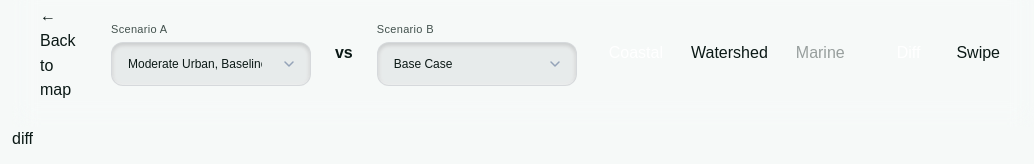
REQ-SC-020: CompareToolbar › mode toggle click writes compareLayoutModeAtom
The width and height of the screenshot is (1034, 164).
Step 1. Click the button "Swipe" → click(978, 54), box 940,33 -> 1016,74
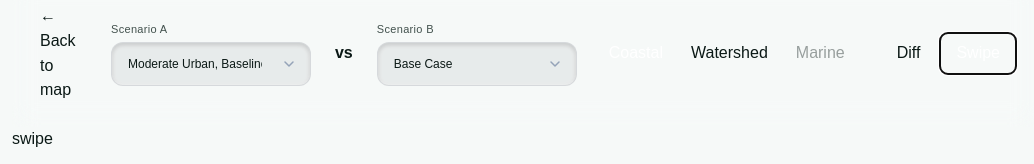
Check: the text with test id "mode" reads "swipe", box 12,130 -> 53,147
